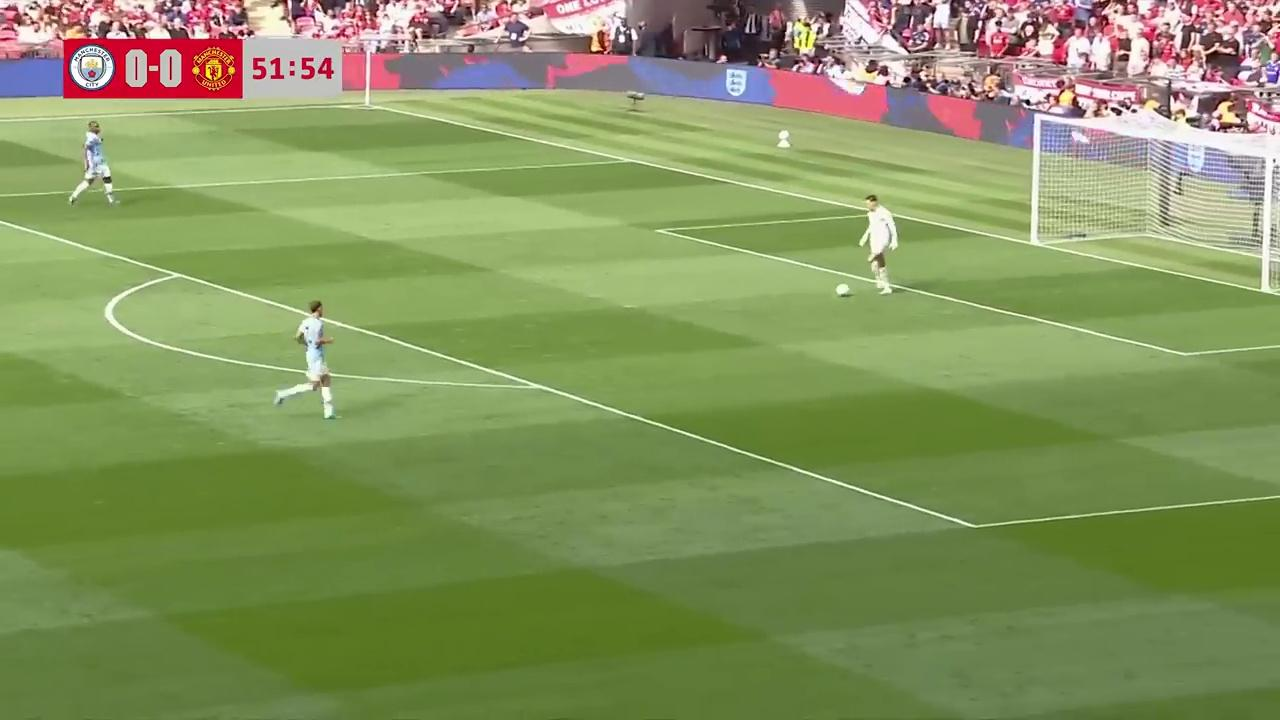ball: (834, 279, 851, 298)
player: (289, 301, 338, 418), (67, 122, 118, 207), (858, 197, 898, 295)
